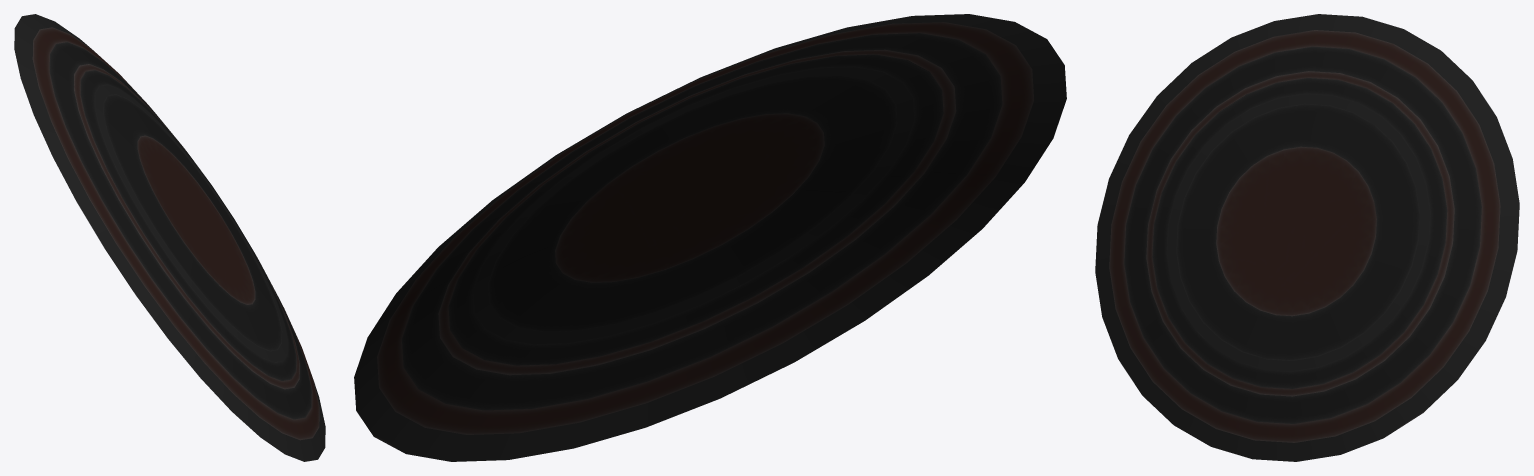
The model's file is shield.glb.
3 views of the same model, side by side, from view 1: azimuth 30°, elevation 25°; view 2: azimuth 150°, elevation 25°; view 3: azimuth 270°, elevation 25° (orthographic). The views are drawn at different scales.
Parts seen in each view (by area): view 1: Shield; view 2: Shield; view 3: Shield.
Part boxes in pixels (x1,y1,x2,y2): Shield: (14,14,325,461); Shield: (354,14,1066,461); Shield: (1095,14,1519,461).
Bounding box in the file's own units: 1 × 1.16 × 1.32.
Materials: 1 (1 with a texture image).
